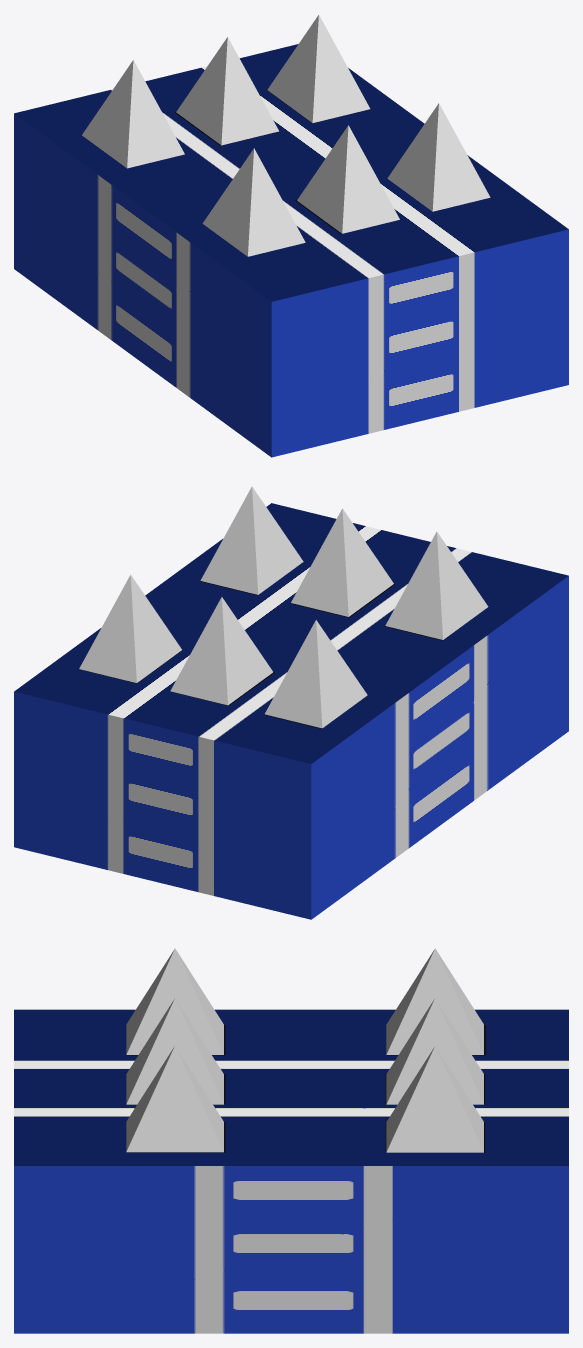
The model's file is TrapPinxos.FBX.
The picture shows the model from 3 angles, top to bottom: view 1: azimuth 30°, elevation 25°; view 2: azimuth 150°, elevation 25°; view 3: azimuth 270°, elevation 25°; orthographic projection. The views are drawn at different scales.
Visible parts, largest first — view 1: ModulTrapPinxos, Pinxos; view 2: ModulTrapPinxos, Pinxos; view 3: ModulTrapPinxos, Pinxos.
Part boxes in pixels (<box>): ModulTrapPinxos: <box>14,44,568,457</box>; Pinxos: <box>82,15,490,256</box>; ModulTrapPinxos: <box>14,503,568,919</box>; Pinxos: <box>79,486,488,728</box>; ModulTrapPinxos: <box>14,1009,568,1333</box>; Pinxos: <box>126,948,483,1152</box>.
Bounding box in the file's own units: 200 × 155 × 300.
Materials: 3 (3 with a texture image).
